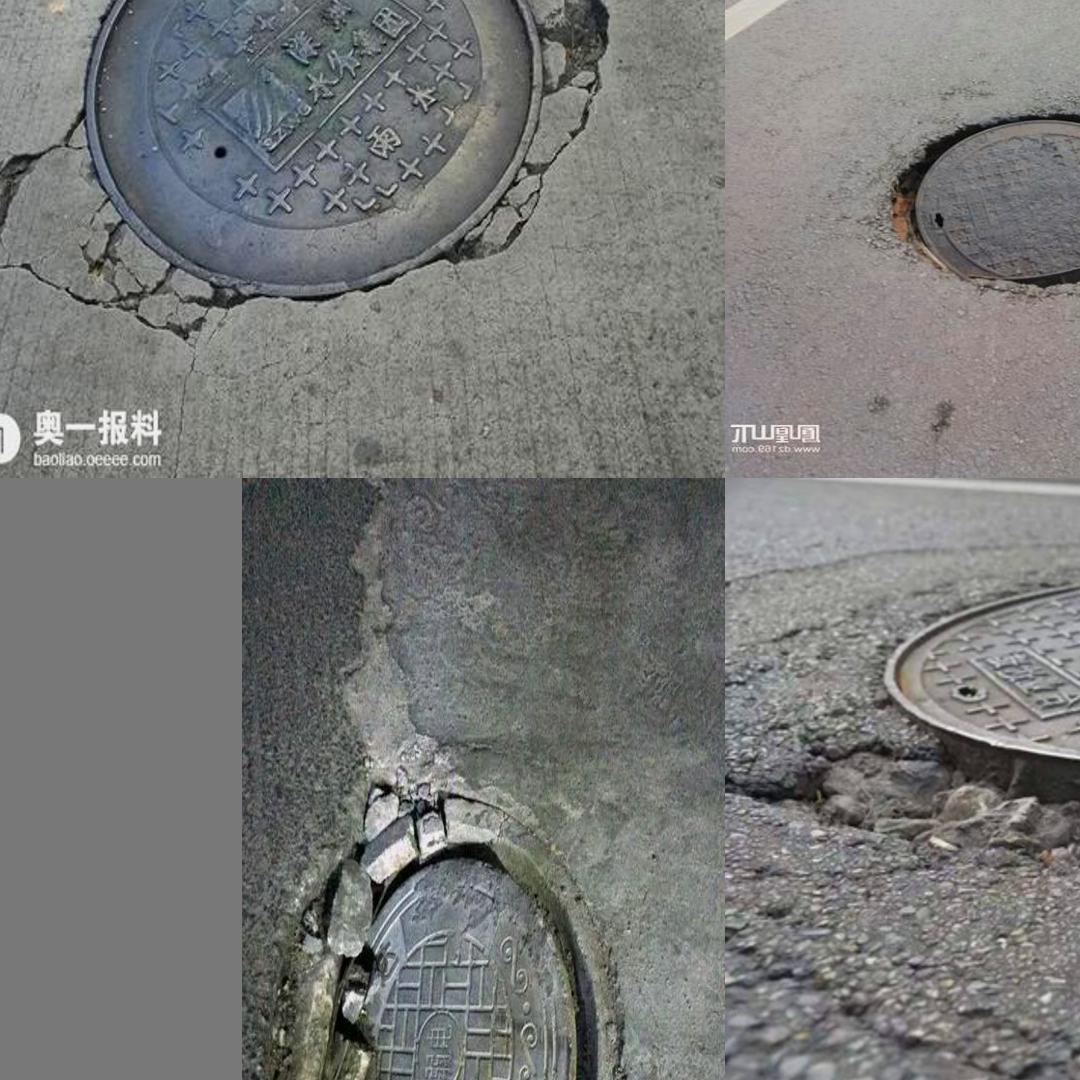circle: (0, 0, 620, 338), (740, 529, 1080, 938), (256, 791, 635, 1080), (855, 97, 1080, 303)
